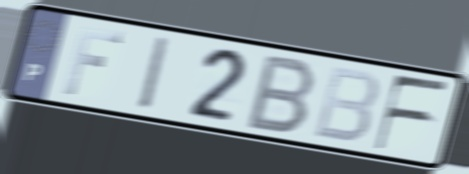2: (182, 46, 249, 126)
B: (242, 52, 320, 137), (309, 63, 382, 146)
F: (371, 73, 453, 154), (59, 24, 128, 98)
I: (135, 33, 174, 114)
